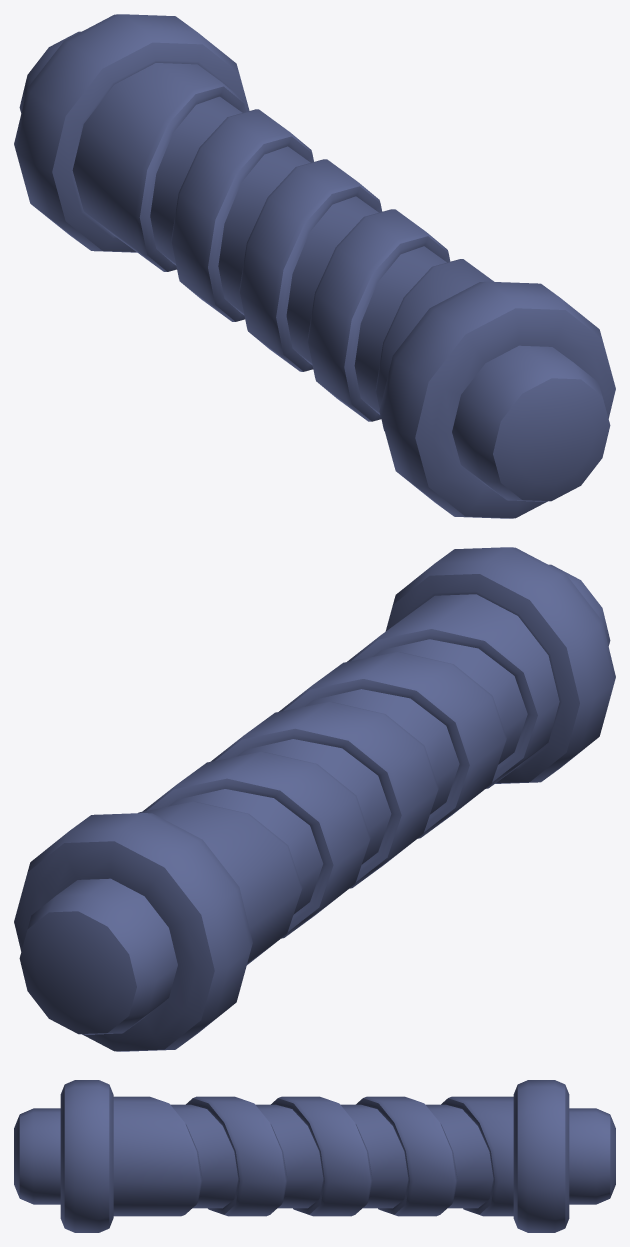
File: Particle02.fbx
3 renders of one model, top to bottom at view 1: azimuth 30°, elevation 25°; view 2: azimuth 150°, elevation 25°; view 3: azimuth 270°, elevation 25°, orthographic. The views are drawn at different scales.
Parts seen in each view (by area): view 1: Cylinder.001; view 2: Cylinder.001; view 3: Cylinder.001.
Part boxes in pixels (left/top/right/bottom): Cylinder.001: left=14, top=14, right=615, bottom=518; Cylinder.001: left=14, top=547, right=615, bottom=1051; Cylinder.001: left=14, top=1080, right=615, bottom=1232.
Size of the model in its own units: 0.3503 by 0.3503 by 1.38.
